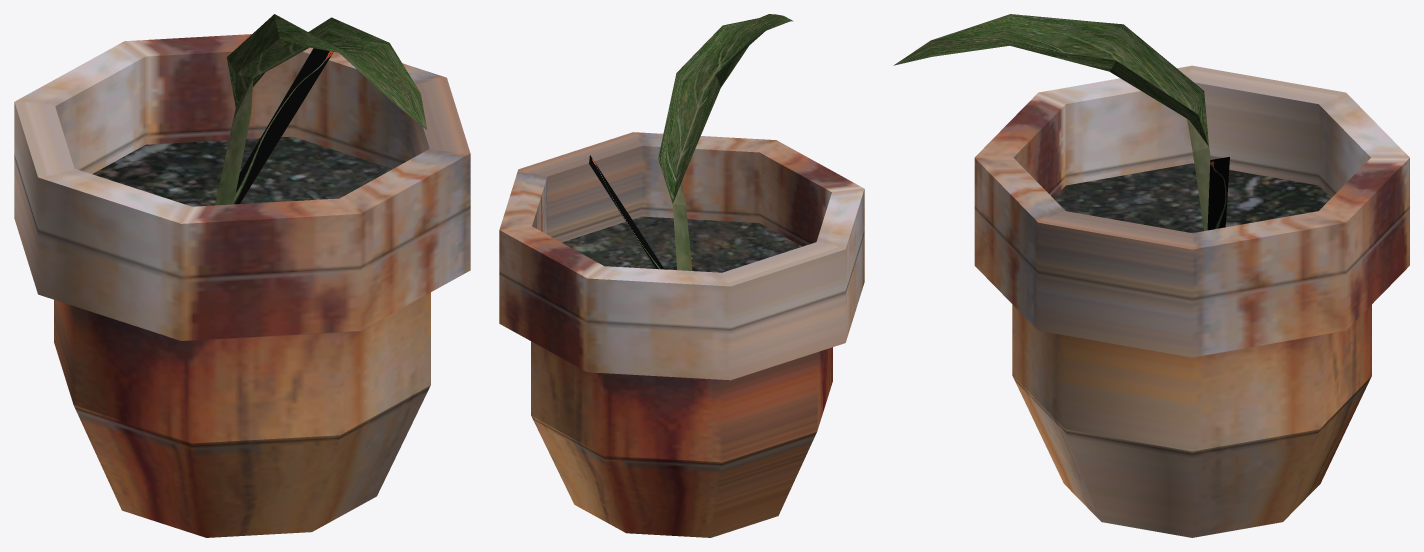
File: frn_quest_fs_plant_1_l1.fbx
3 views of the same model, side by side, from view 1: azimuth 30°, elevation 25°; view 2: azimuth 150°, elevation 25°; view 3: azimuth 270°, elevation 25° (orthographic). The views are drawn at different scales.
Parts seen in each view (by area): view 1: mesh_node; view 2: mesh_node; view 3: mesh_node.
Part boxes in pixels (x1,y1,x2,y2): mesh_node: (14, 14, 470, 537); mesh_node: (499, 14, 864, 537); mesh_node: (893, 14, 1409, 537).
Size of the model in its own units: 0.637 by 0.7538 by 0.7562.
2 materials, 2 textured.
